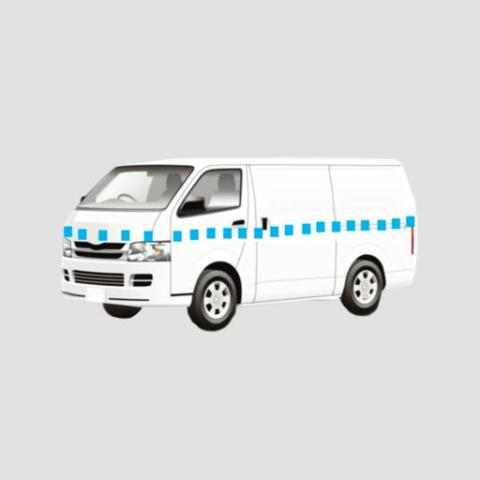van: (55, 158, 420, 329)
